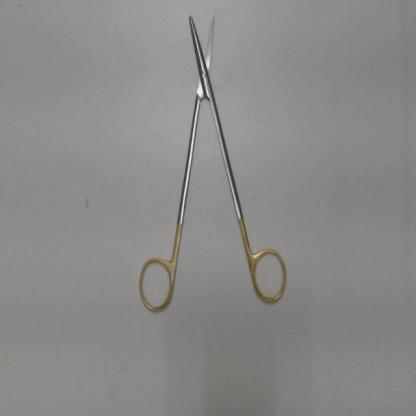7 Metzenbaum Scissors: (135, 1, 291, 320)
